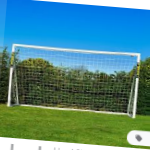goals: (6, 41, 141, 119)
